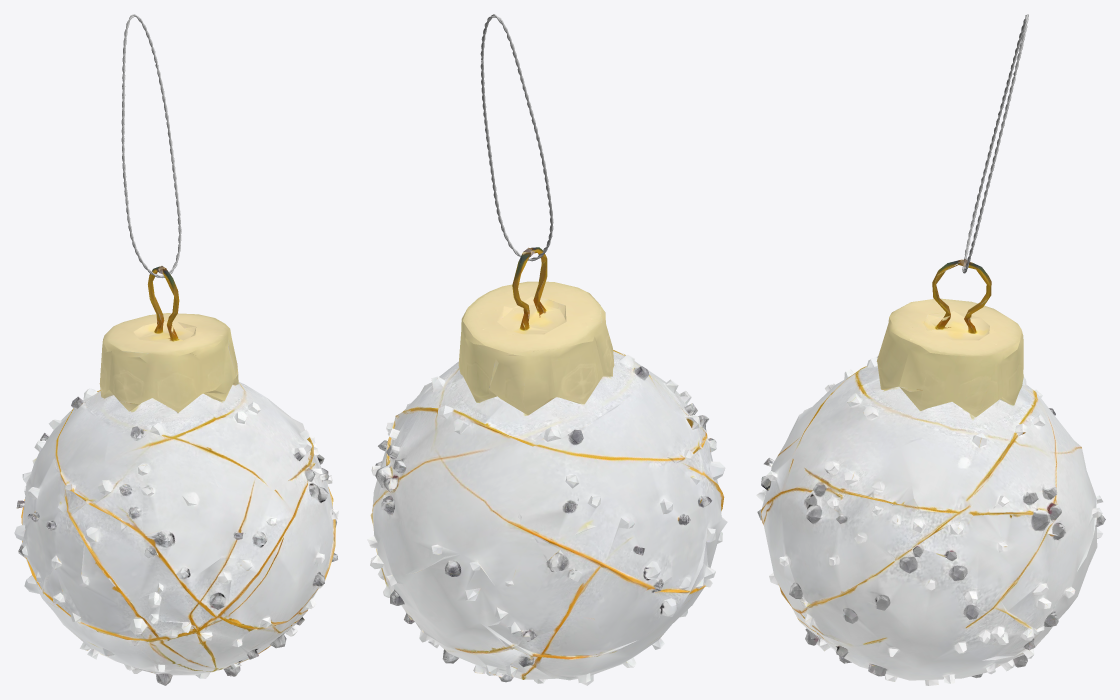
File: Dotted_Orb.glb
The picture shows the model from 3 angles, left to right: view 1: azimuth 30°, elevation 25°; view 2: azimuth 150°, elevation 25°; view 3: azimuth 270°, elevation 25°; orthographic projection. The views are drawn at different scales.
Parts seen in each view (by area): view 1: Mesh1.0, GN Instance; view 2: Mesh1.0, GN Instance; view 3: Mesh1.0, GN Instance.
Part boxes in pixels (left/top/right/bottom): Mesh1.0: left=14, top=265, right=338, bottom=685; GN Instance: left=121, top=14, right=181, bottom=277; Mesh1.0: left=367, top=247, right=727, bottom=685; GN Instance: left=480, top=14, right=553, bottom=261; Mesh1.0: left=756, top=259, right=1105, bottom=685; GN Instance: left=962, top=14, right=1028, bottom=273.
Bounding box in the file's own units: 0.0625 × 0.1318 × 0.0636.
Materials: 2 (1 with a texture image).
